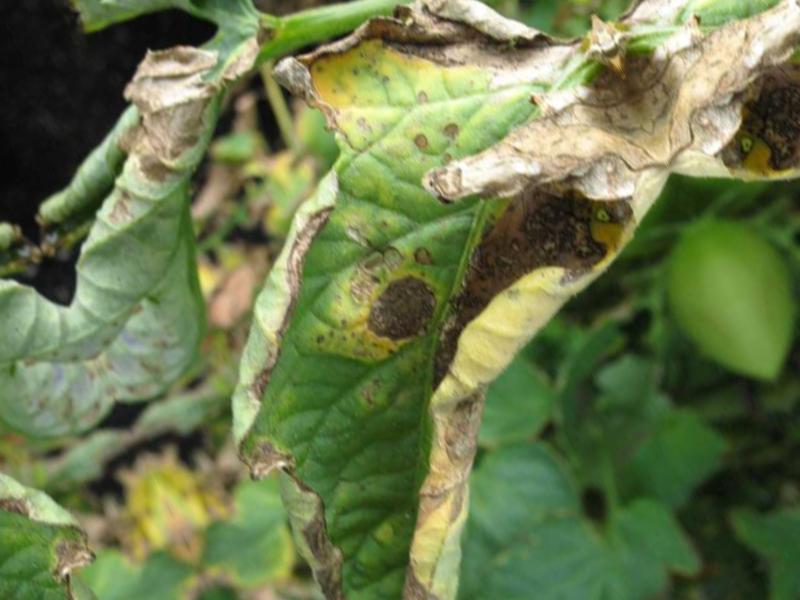Tomato Early blight leaf: (101, 0, 800, 600)
